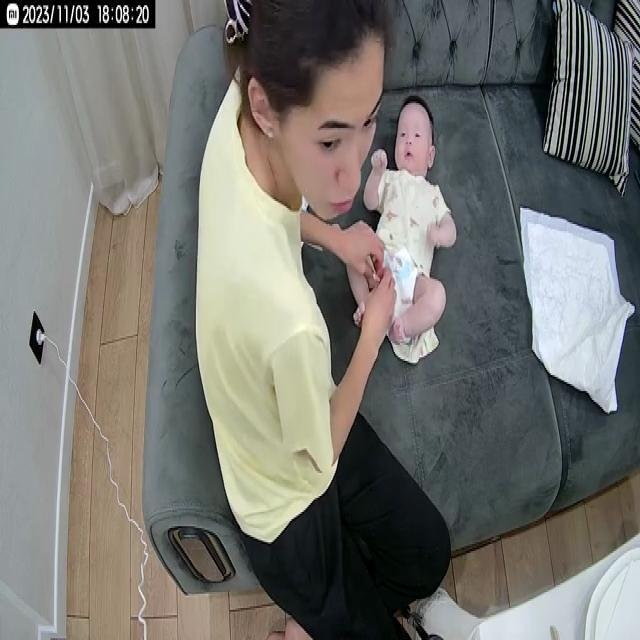baby: (346, 91, 459, 361)
